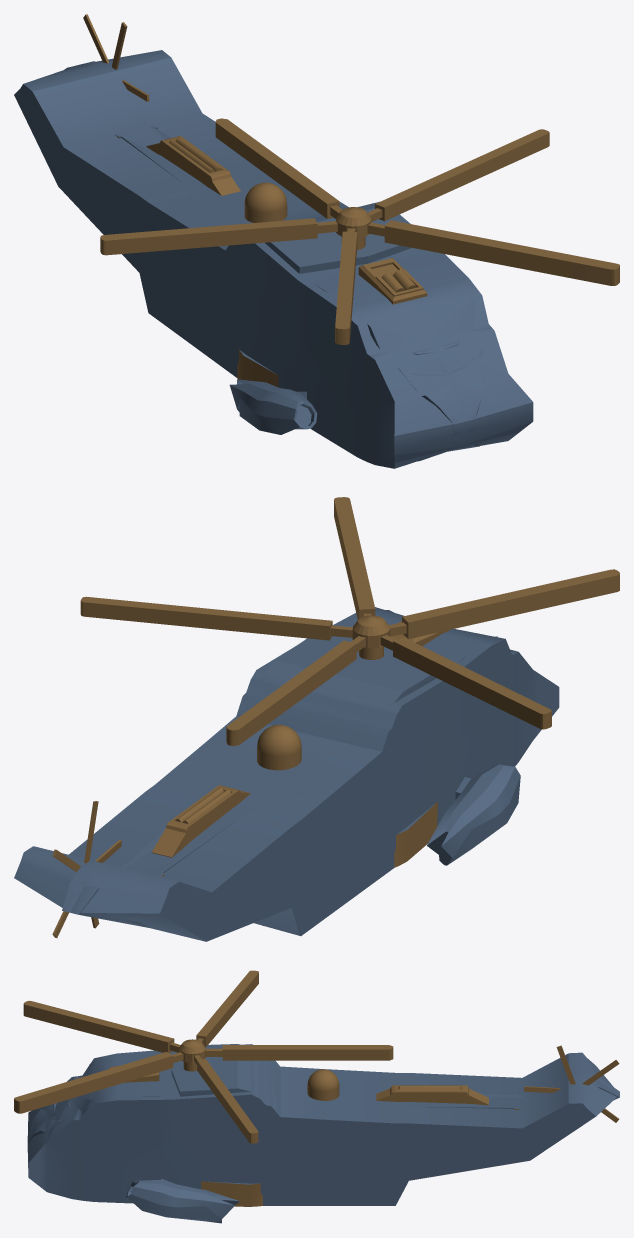
File: heli b.fbx
3 views of the same model, one above another, from view 1: azimuth 30°, elevation 25°; view 2: azimuth 150°, elevation 25°; view 3: azimuth 270°, elevation 25° (orthographic). The views are drawn at different scales.
Parts seen in each view (by area): view 1: pCube19; view 2: pCube19; view 3: pCube19.
Part boxes in pixels (left/top/right/bottom): pCube19: left=14, top=14, right=619, bottom=468; pCube19: left=14, top=497, right=619, bottom=941; pCube19: left=14, top=970, right=619, bottom=1223.
Size of the model in its own units: 3.2 by 1.38 by 5.05.
